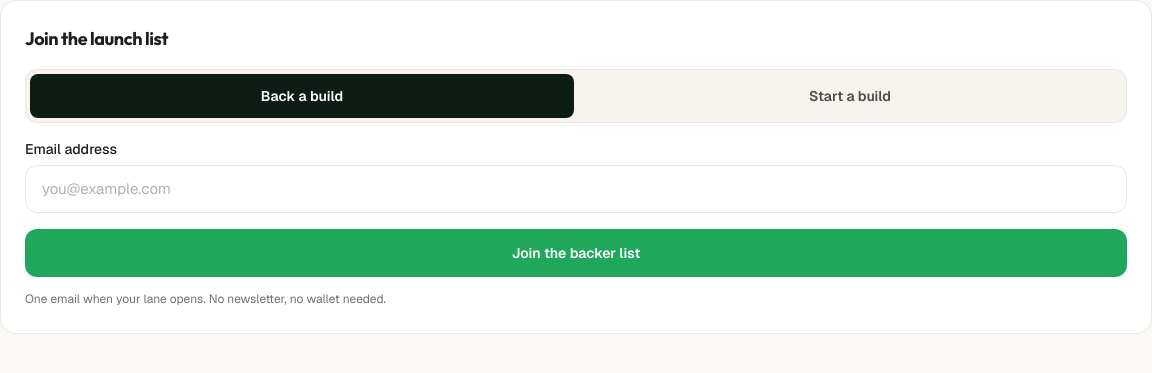
Scenario: WaitlistForm › rejects an address that is not an email
Type "not-an-email" into the field labelled "Email address" at [576, 189], box 25,165 -> 1127,213
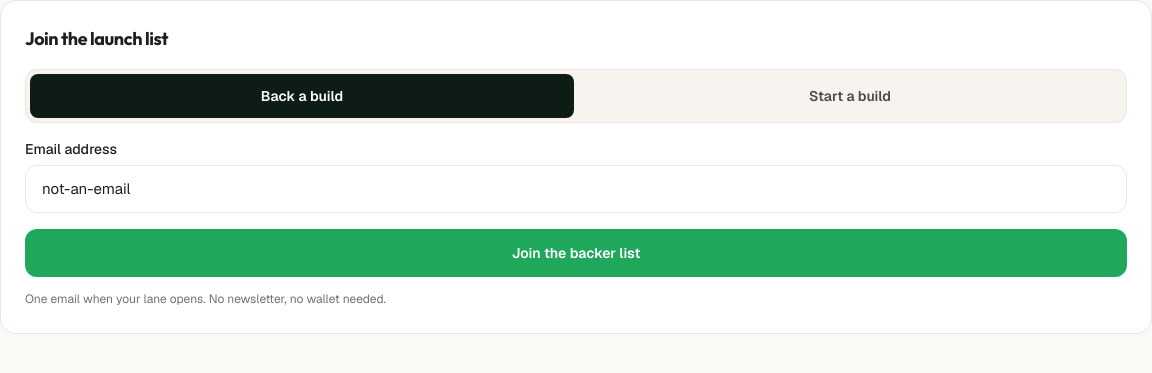
Leave the field labelled "Email address", box 25,165 -> 1127,213
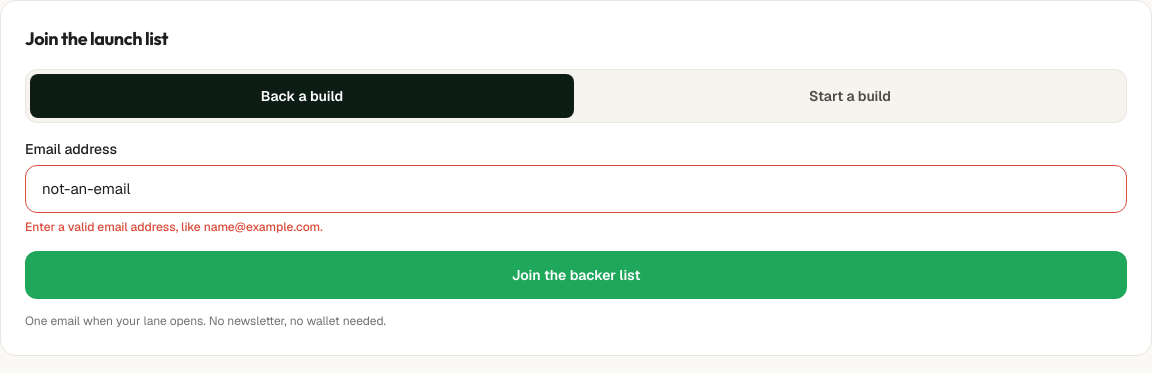
Check: the text "Enter a valid email address, like name@example.com." is shown, box 25,219 -> 323,235
